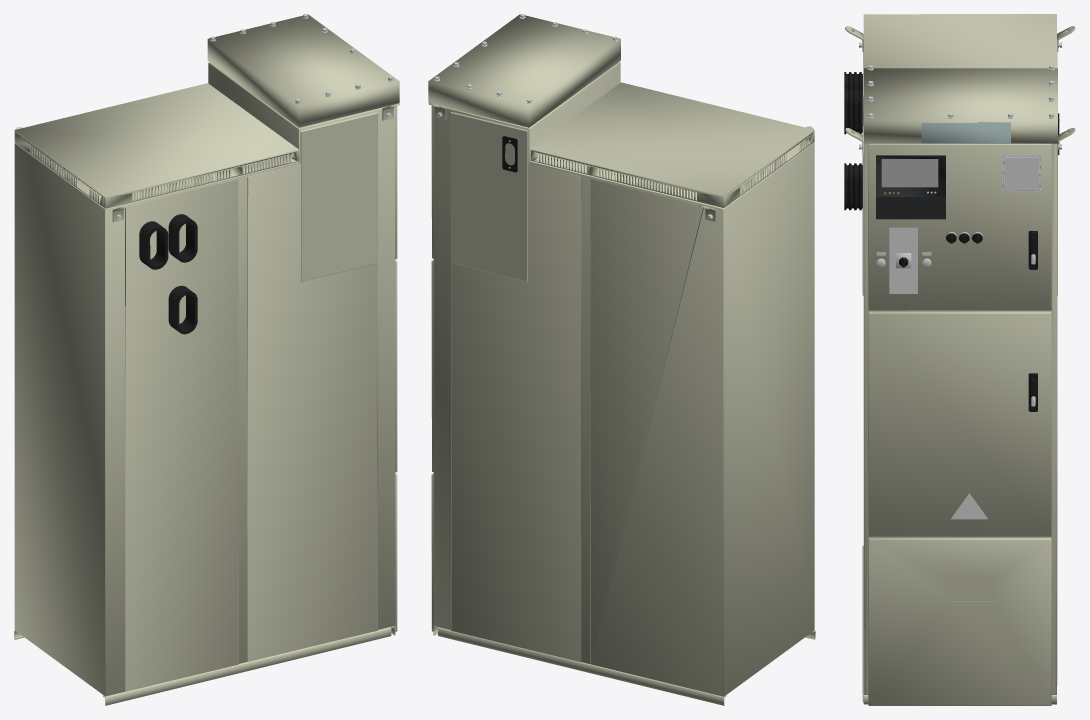
Rendered from FIder_left.fbx.
3 views of the same model, side by side, from view 1: azimuth 30°, elevation 25°; view 2: azimuth 150°, elevation 25°; view 3: azimuth 270°, elevation 25° (orthographic). The views are drawn at different scales.
Visible parts, largest first — view 1: Шкаф, Накладки шин; view 2: Шкаф; view 3: Шкаф, Накладки шин, Подпись шкафа, Plane, Табло, Часть экрана, Экран, Амперметр, Предупреждающий знак, Подложка амперметра.
Boxes of the visible parts, x1,y1,x2,y2 form: Шкаф: [14, 14, 399, 705]; Накладки шин: [139, 214, 197, 334]; Шкаф: [428, 14, 815, 705]; Шкаф: [845, 14, 1075, 705]; Накладки шин: [844, 72, 862, 210]; Подпись шкафа: [921, 122, 1010, 143]; Plane: [889, 227, 917, 293]; Табло: [881, 159, 938, 187]; Часть экрана: [876, 196, 945, 219]; Экран: [876, 155, 945, 196]; Амперметр: [1005, 157, 1038, 188]; Предупреждающий знак: [951, 493, 987, 519]; Подложка амперметра: [1002, 155, 1041, 191].
Size of the model in its own units: 142 by 251 by 89.21.
